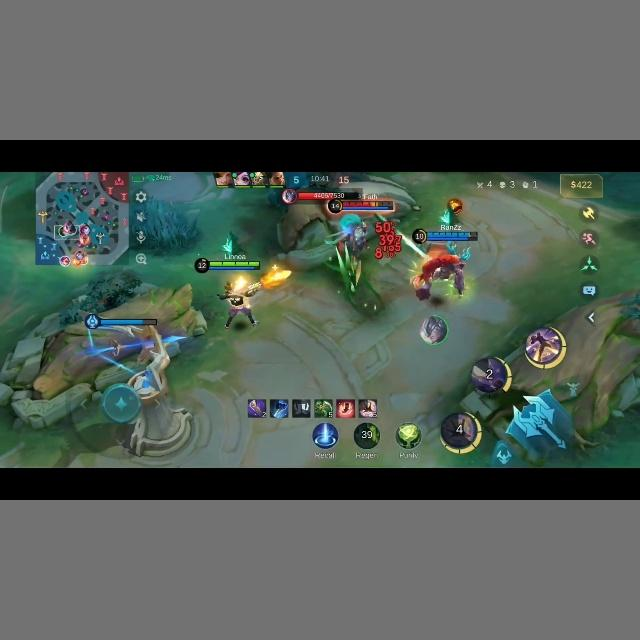hp_enemy: (332, 200, 393, 214), (298, 189, 387, 198)
hp_self: (193, 258, 262, 273), (411, 229, 475, 245)
